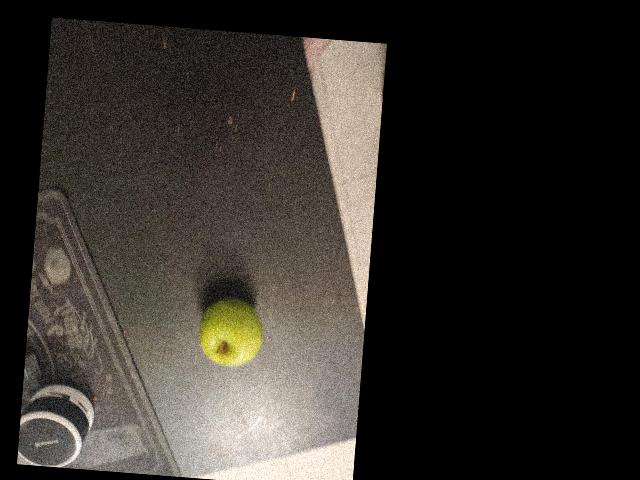apple: (129, 303, 222, 383)
